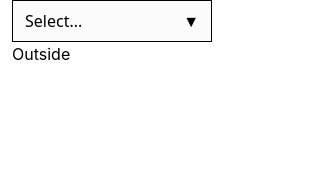
Test: Select 组件 › 应该在点击外部时关闭下拉菜单
Later steps or results of the test are not shown.
What coordinates should you click on to do the following:
click the dropdown
I would click on:
 (112, 21)
Its box is top-left (12, 0), bottom-right (212, 42).
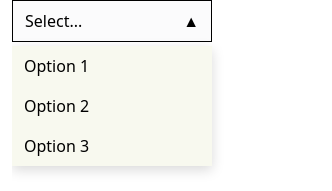
Expected: the option "Option 1" is shown, top-left (24, 55), bottom-right (89, 77)
